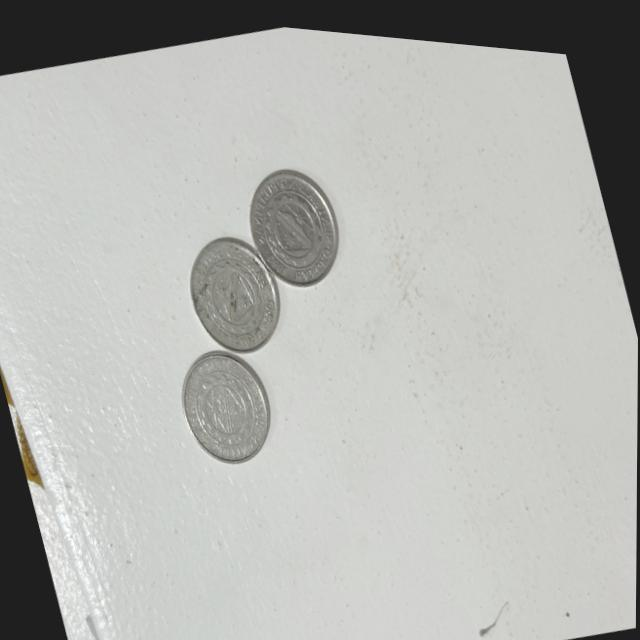1_Old_Back: (250, 164, 340, 278), (193, 246, 278, 343), (184, 355, 268, 451)
